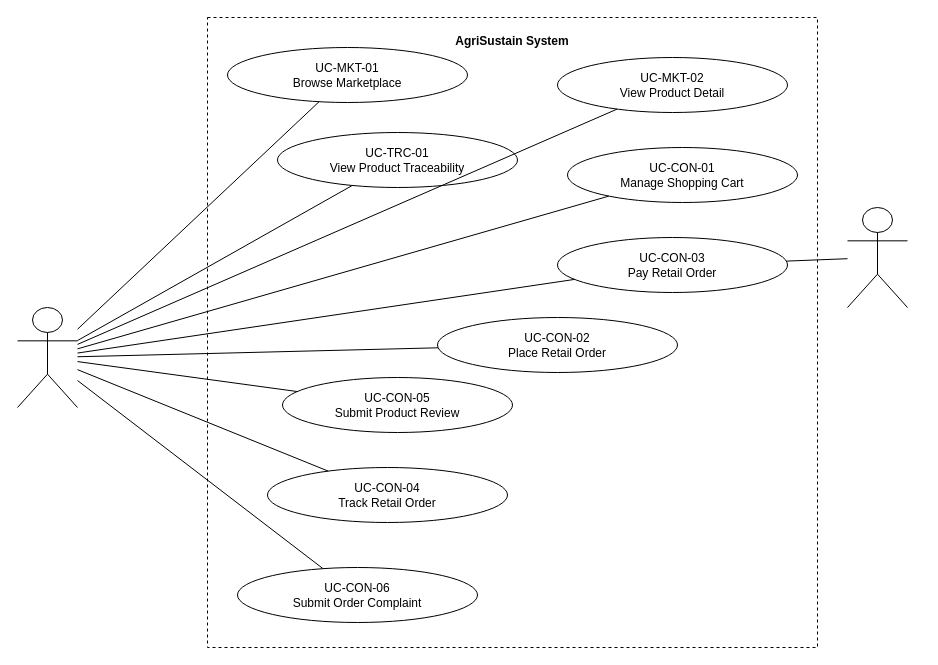
Some shapes in this 938 by 665 pixel diagram are drawn without their labels. Each missing label, with the centre of its shape:
Consumer: the point at 47,357
VietQR / PayOS: the point at 877,257
